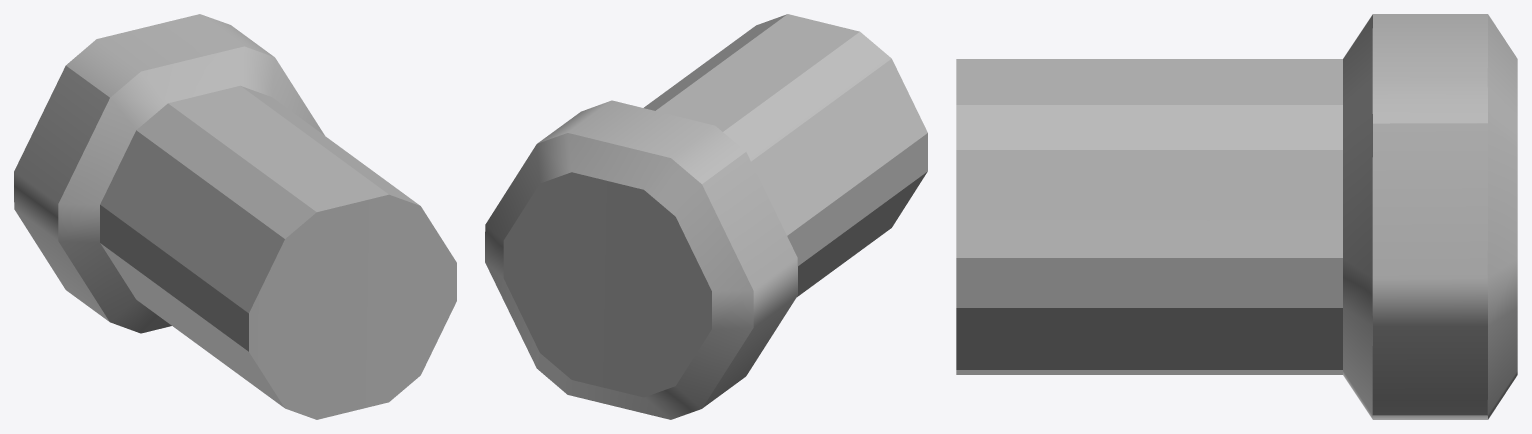
Rendered from Bolt01.fbx.
3 renders of one model, left to right at view 1: azimuth 30°, elevation 25°; view 2: azimuth 150°, elevation 25°; view 3: azimuth 270°, elevation 25°, orthographic. The views are drawn at different scales.
Visible parts, largest first — view 1: Bolt01; view 2: Bolt01; view 3: Bolt01.
Part boxes in pixels (x1,y1,x2,y2): Bolt01: [14, 14, 456, 419]; Bolt01: [485, 14, 927, 419]; Bolt01: [956, 14, 1517, 419].
Bounding box in the file's own units: 43.16 × 40.23 × 60.16.
